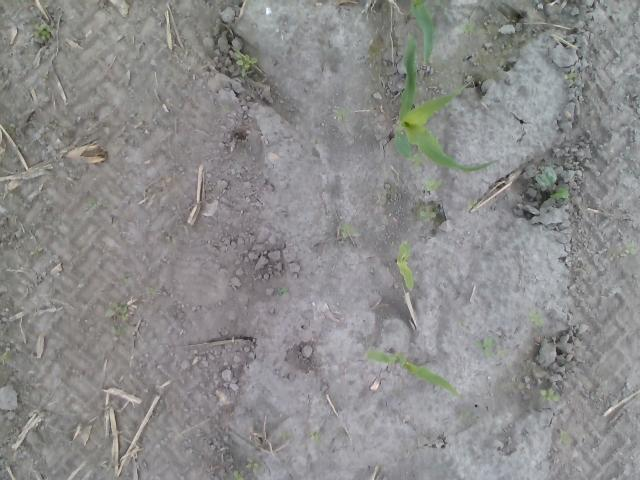Maize: (392, 32, 498, 174), (364, 350, 462, 398), (408, 0, 435, 66), (394, 239, 414, 291)
Weeds: (536, 166, 570, 199), (474, 338, 506, 360), (610, 241, 638, 262), (235, 52, 258, 77), (106, 302, 130, 320), (32, 22, 52, 40), (540, 387, 560, 403), (338, 221, 356, 238), (422, 177, 442, 192), (86, 196, 110, 208), (418, 209, 438, 223), (528, 310, 544, 327), (245, 458, 260, 474), (409, 152, 424, 168), (332, 108, 348, 122), (556, 428, 572, 441), (456, 23, 476, 33), (564, 71, 578, 84), (110, 324, 128, 334), (308, 429, 320, 442), (232, 469, 245, 480), (0, 352, 10, 364), (468, 198, 478, 209), (277, 286, 288, 295), (29, 248, 43, 255), (280, 430, 292, 438), (122, 272, 130, 282), (460, 412, 470, 418), (147, 287, 155, 294), (436, 0, 444, 5), (460, 320, 466, 326)
